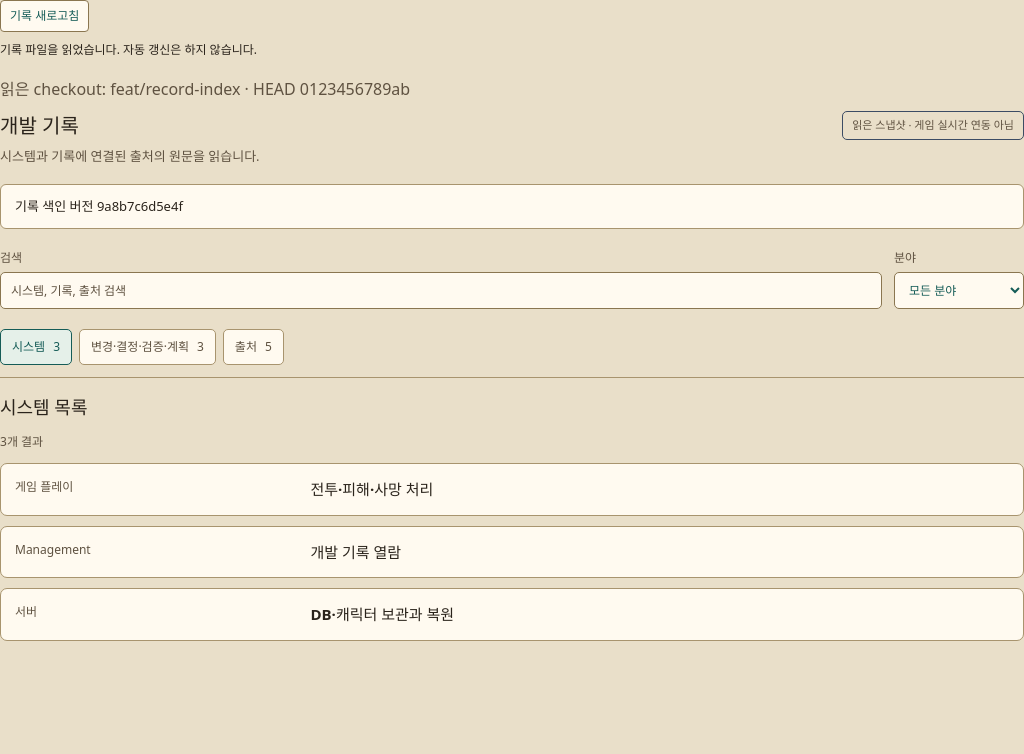
it: details › marks a non-Markdown git source as not read in the app, with its path
Expected: the search field labelled "검색" is shown, [0,272,882,309]
Click the button "게임 플레이 전투·피해·사망 처리". click: (44, 486)
box: [0,463,1023,516]
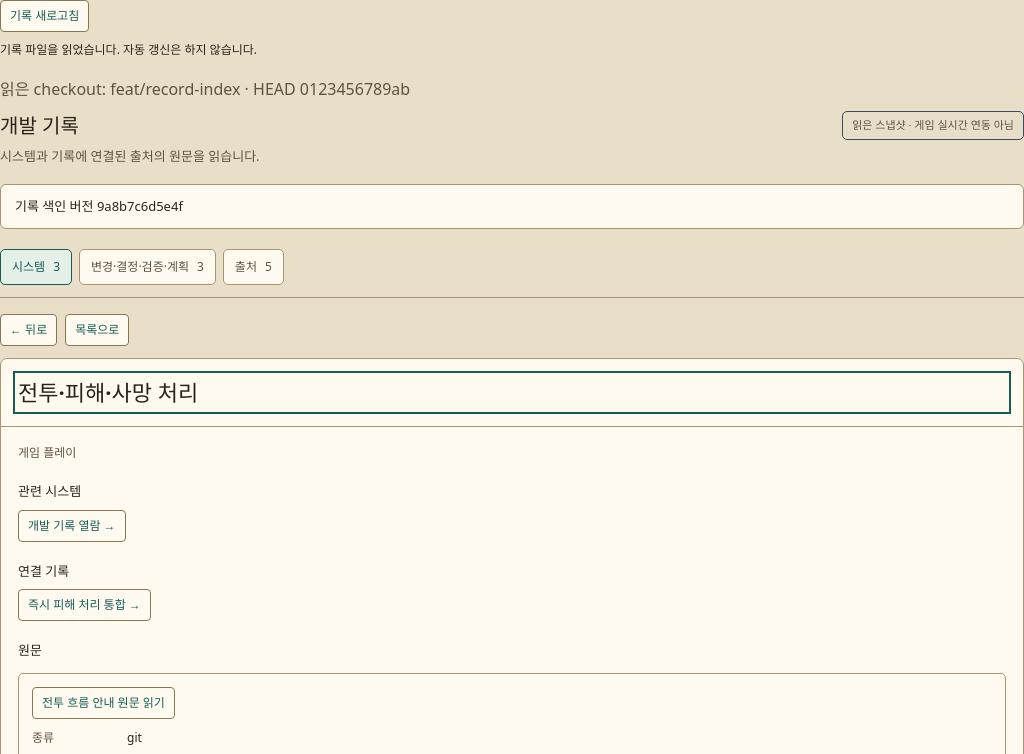
Result: the button "전투 흐름 안내 원문 읽기" is shown at [32,686,175,718]
